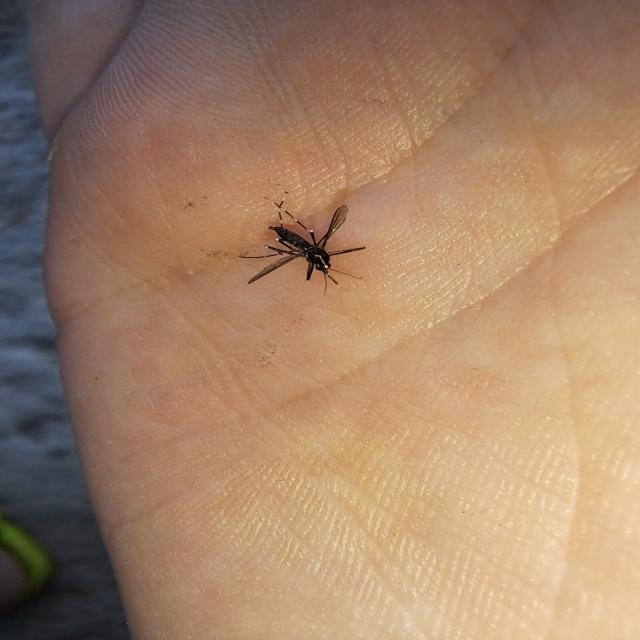albopictus: (232, 190, 368, 294)
